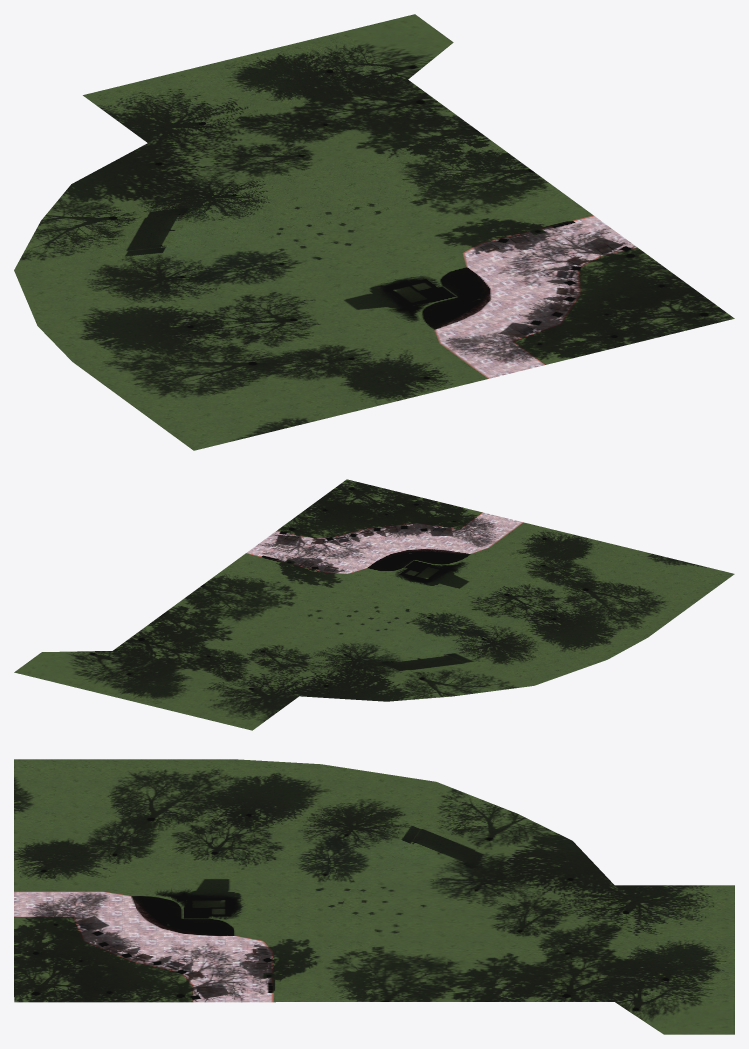
File: carreras_piso_prov.glb
3 renders of one model, top to bottom at view 1: azimuth 30°, elevation 25°; view 2: azimuth 150°, elevation 25°; view 3: azimuth 270°, elevation 25°, orthographic. The views are drawn at different scales.
Visible parts, largest first — view 1: jardinera1; view 2: jardinera1; view 3: jardinera1.
Boxes of the visible parts, <box> form: jardinera1: <box>14,14,734,450</box>; jardinera1: <box>14,479,734,730</box>; jardinera1: <box>14,759,734,1034</box>.
Bounding box in the file's own units: 74.53 × 0 × 82.54.
1 material, 1 textured.
